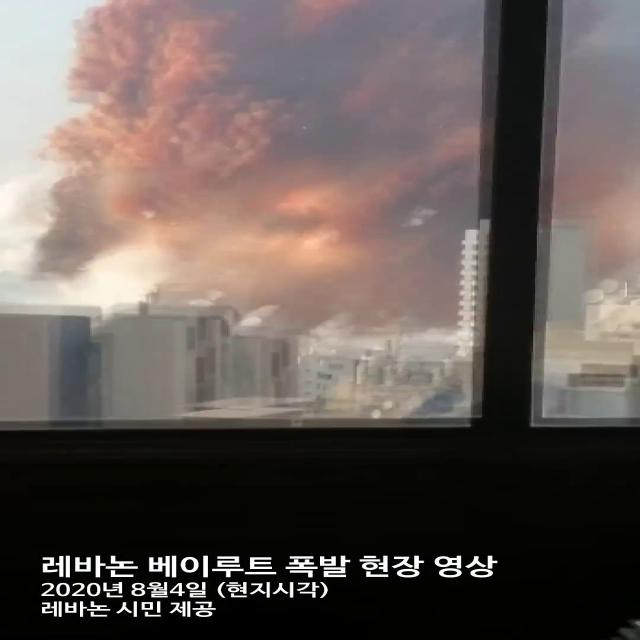explosion: (63, 0, 640, 358)
